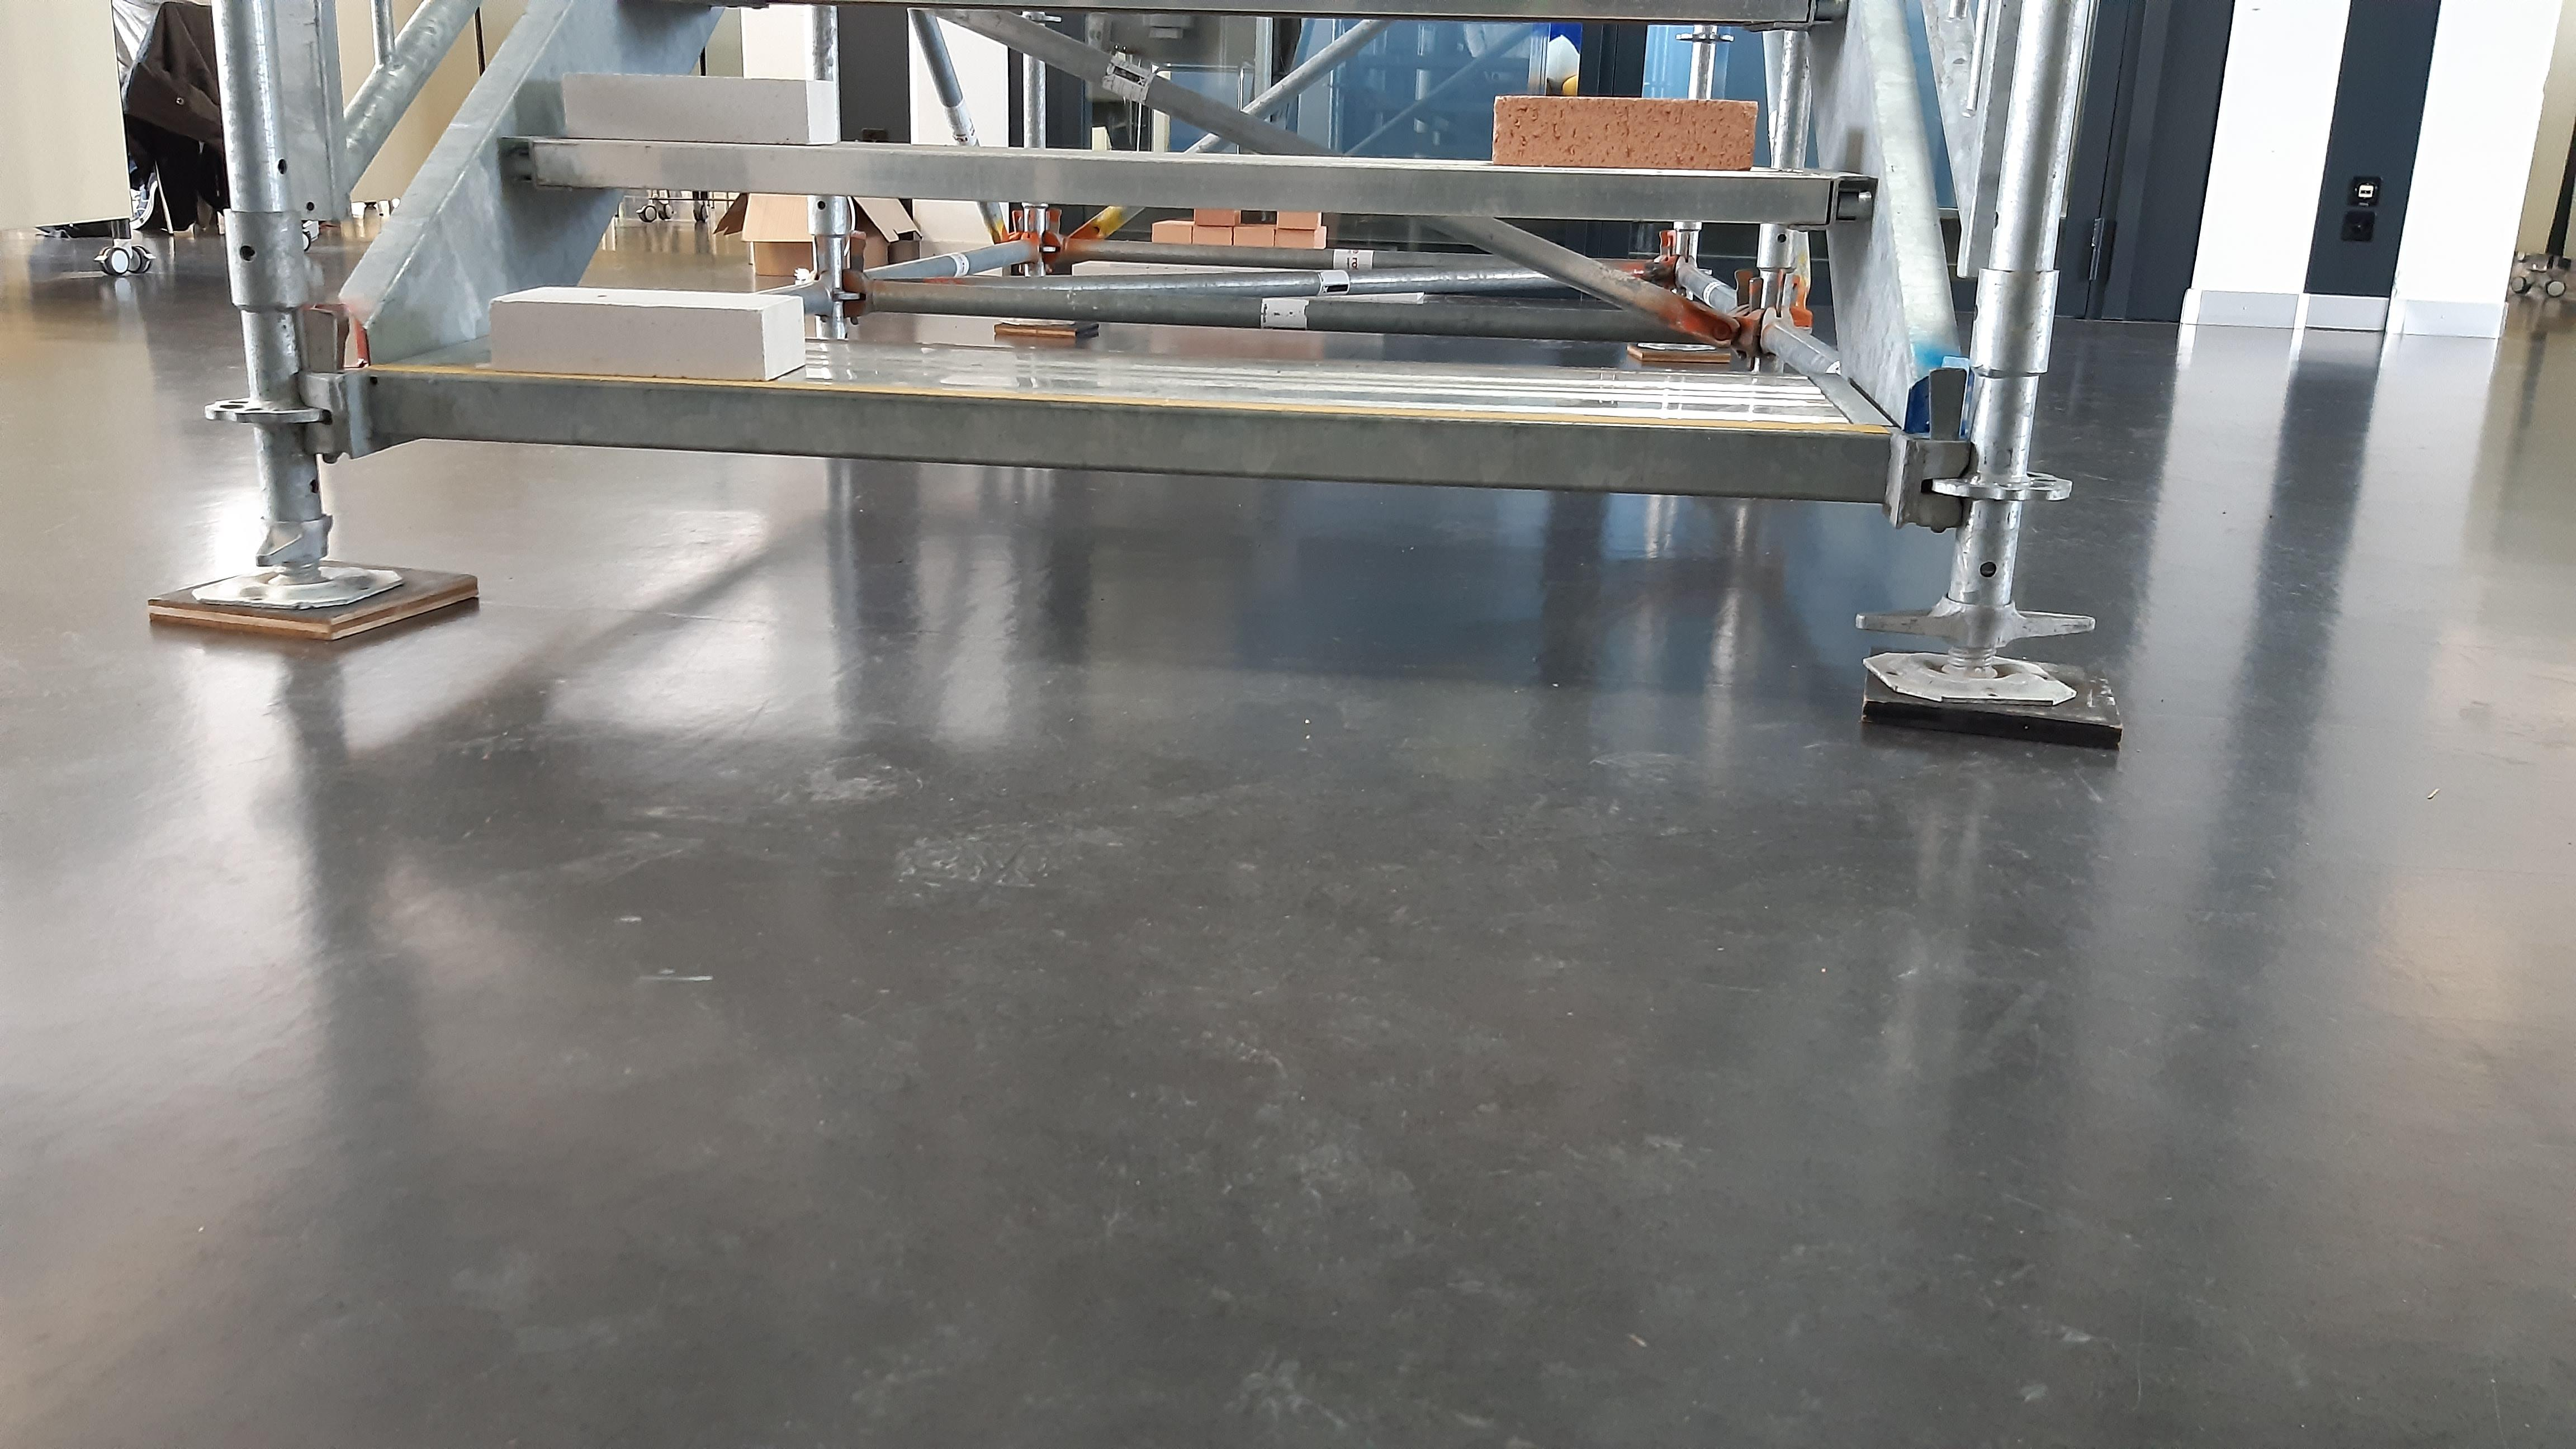brick: (488, 287, 803, 377), (563, 73, 830, 143), (1495, 96, 1755, 168)
edge: (370, 366, 1895, 524), (495, 136, 1875, 257)
stairs: (149, 7, 2120, 750)
